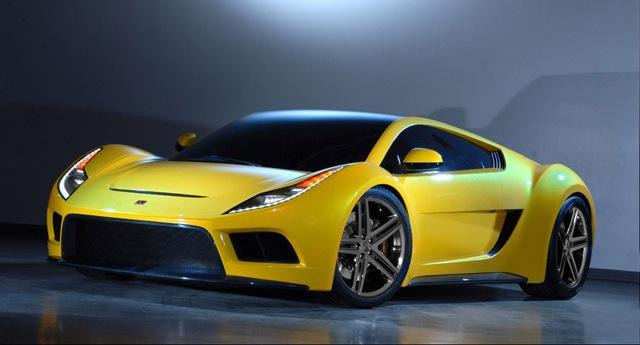small: (44, 107, 597, 309)
